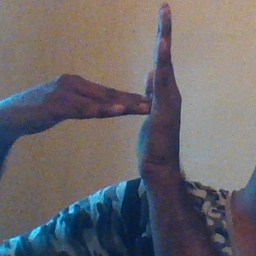Z: (79, 3, 191, 184)
